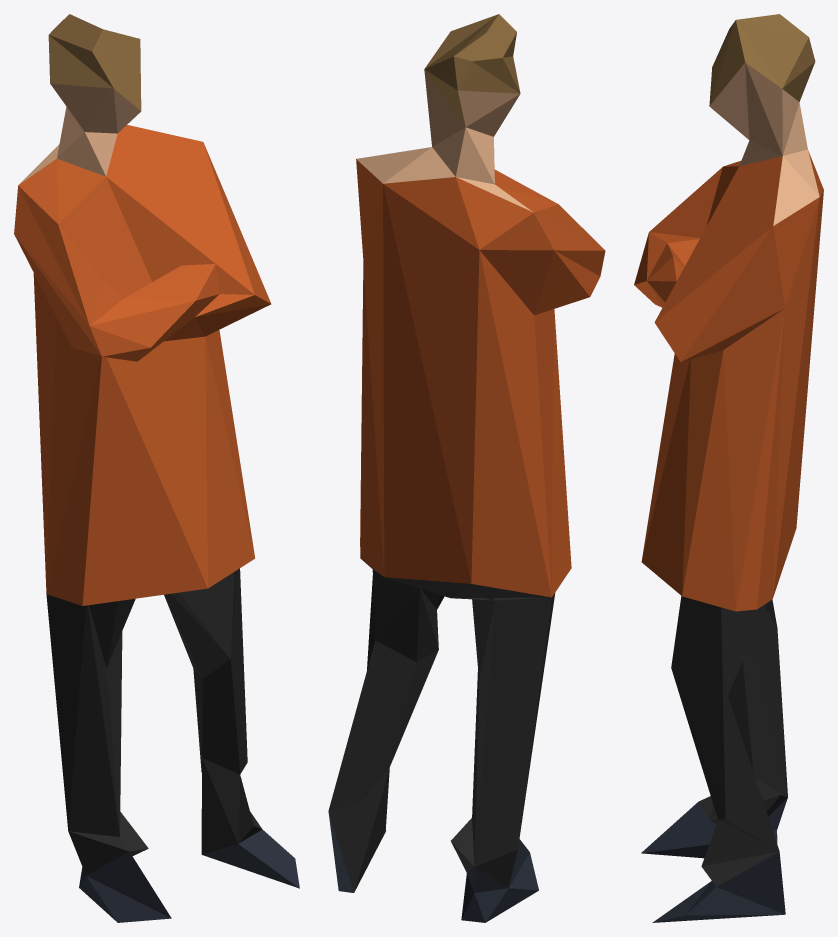
The model's file is walker-12.glb.
3 renders of one model, left to right at view 1: azimuth 30°, elevation 25°; view 2: azimuth 150°, elevation 25°; view 3: azimuth 270°, elevation 25°, orthographic. The views are drawn at different scales.
Parts seen in each view (by area): view 1: Woman03; view 2: Woman03; view 3: Woman03.
Boxes of the visible parts, x1,y1,x2,y2 form: Woman03: [14, 14, 299, 922]; Woman03: [328, 14, 605, 922]; Woman03: [634, 14, 823, 922].
Size of the model in its own units: 0.441 by 1.55 by 0.3177.
